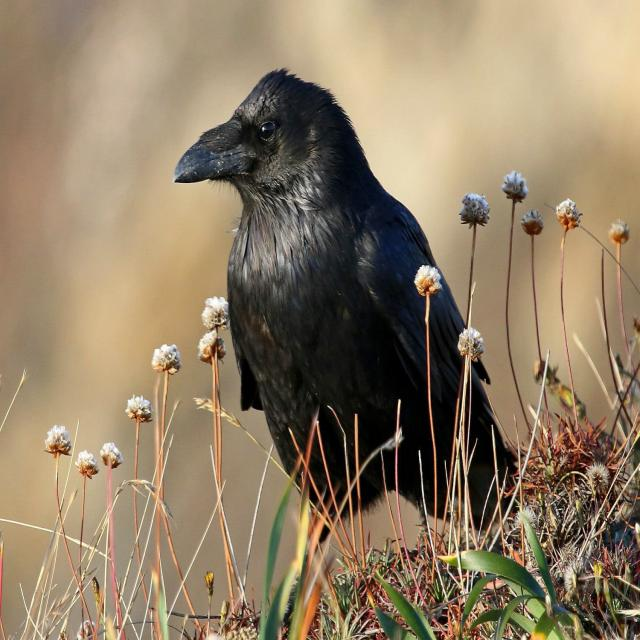crow: (173, 69, 517, 529)
